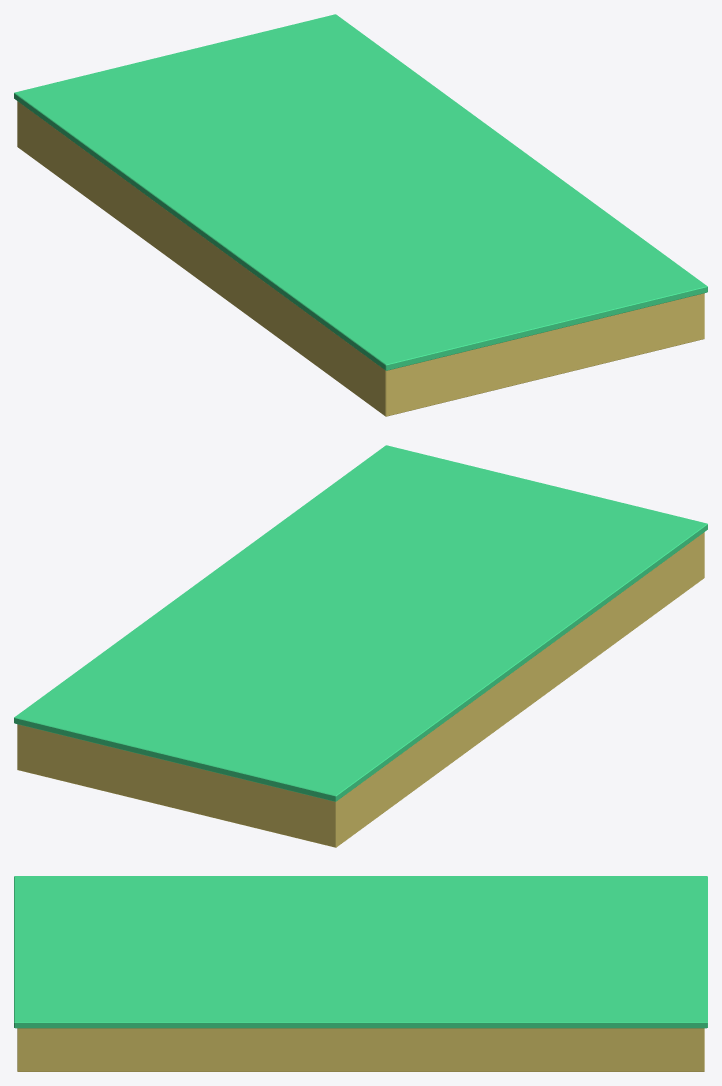
The model's file is BuildingBlock_4_2.fbx.
3 views of the same model, one above another, from view 1: azimuth 30°, elevation 25°; view 2: azimuth 150°, elevation 25°; view 3: azimuth 270°, elevation 25° (orthographic). The views are drawn at different scales.
Parts seen in each view (by area): view 1: BuildingBlock_4_2; view 2: BuildingBlock_4_2; view 3: BuildingBlock_4_2.
Part boxes in pixels (<box>): BuildingBlock_4_2: <box>14,14,707,416</box>; BuildingBlock_4_2: <box>14,445,707,847</box>; BuildingBlock_4_2: <box>14,876,707,1071</box>.
Size of the model in its own units: 606 by 96.66 by 1211.
